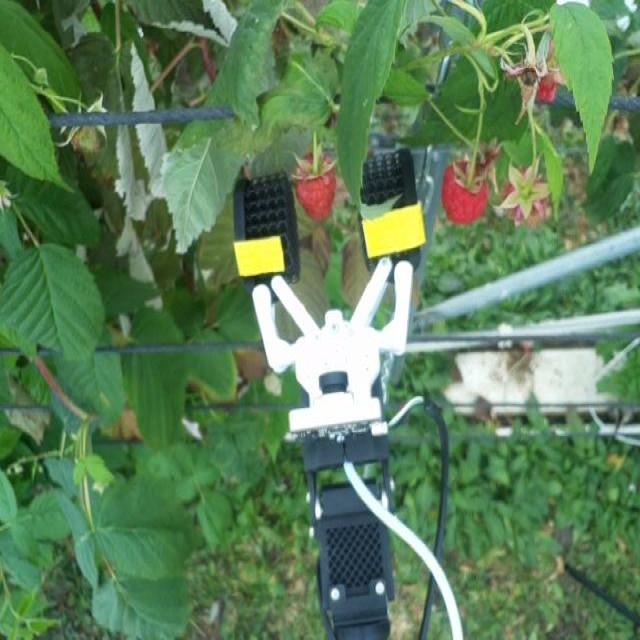Riped berries: (291, 147, 338, 221), (501, 163, 551, 226), (443, 156, 487, 219), (523, 46, 561, 109)
